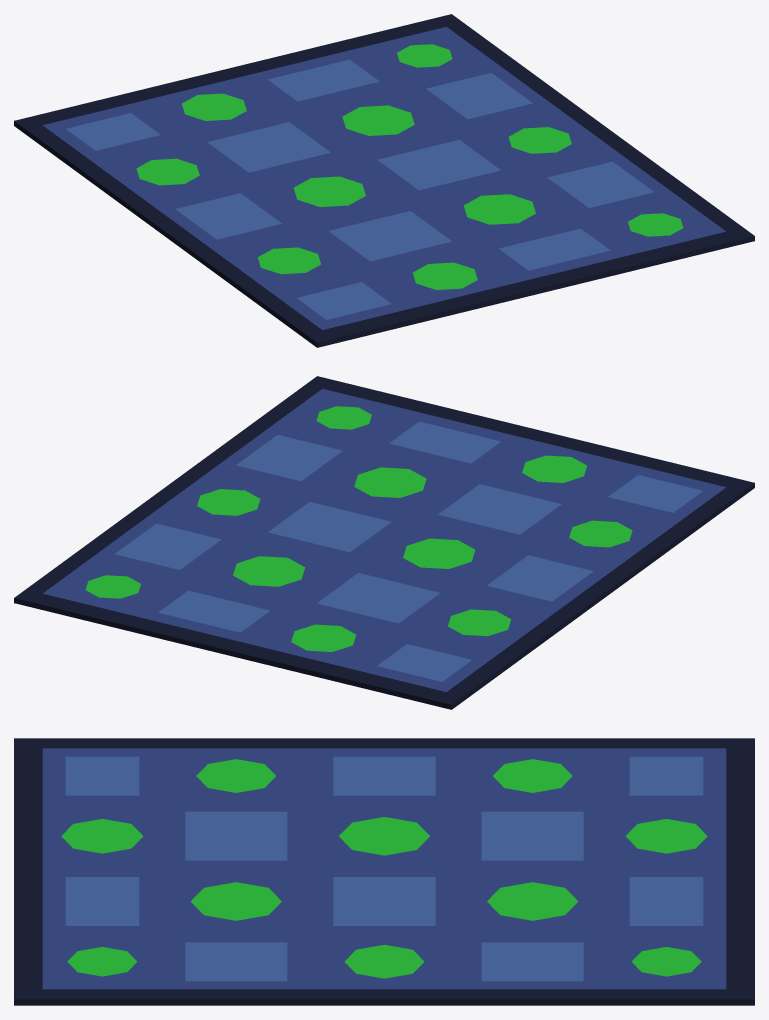
The model's file is Rug_GreenBlue.fbx.
3 renders of one model, top to bottom at view 1: azimuth 30°, elevation 25°; view 2: azimuth 150°, elevation 25°; view 3: azimuth 270°, elevation 25°, orthographic. The views are drawn at different scales.
Visible parts, largest first — view 1: Plane.055; view 2: Plane.055; view 3: Plane.055.
Boxes of the visible parts, <box> form: Plane.055: <box>14,14,754,347</box>; Plane.055: <box>14,376,754,709</box>; Plane.055: <box>14,738,754,1005</box>.
Bounding box in the file's own units: 450 × 5 × 540.
